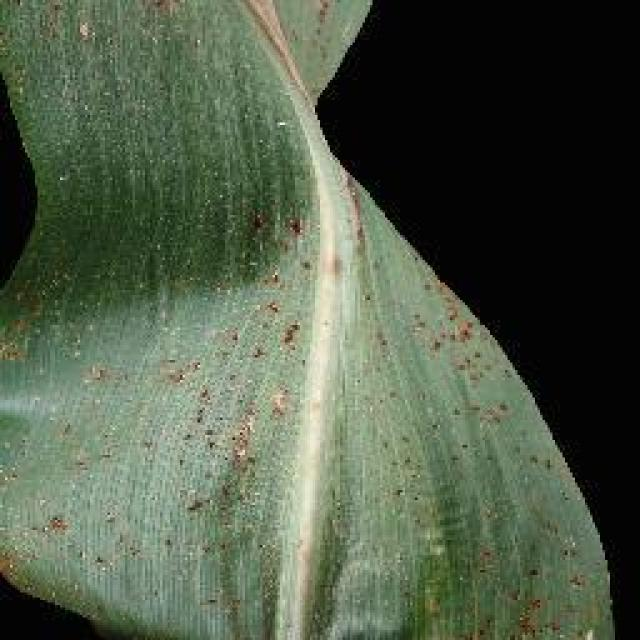Corn Common Rust: (152, 102, 610, 640)
